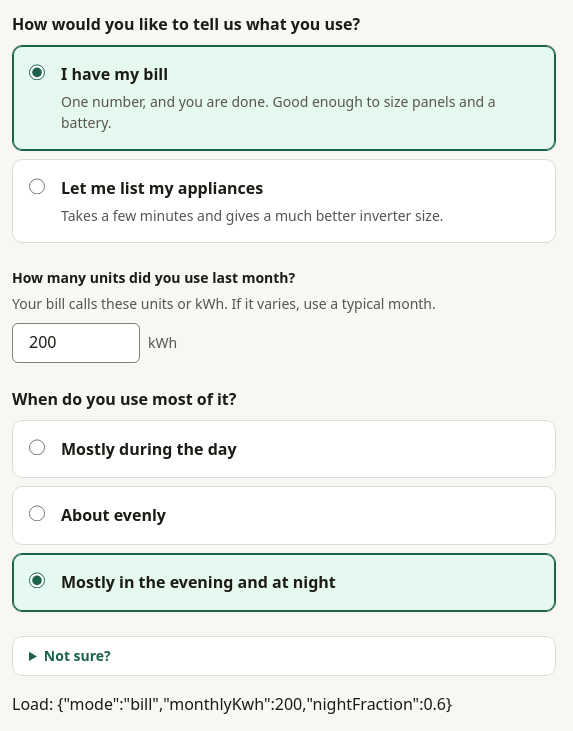
StepUsage › switches to the appliance path and back
Click the radio button labelled "list my appliances" at [37, 186], box top-left (29, 178), bottom-right (45, 194)
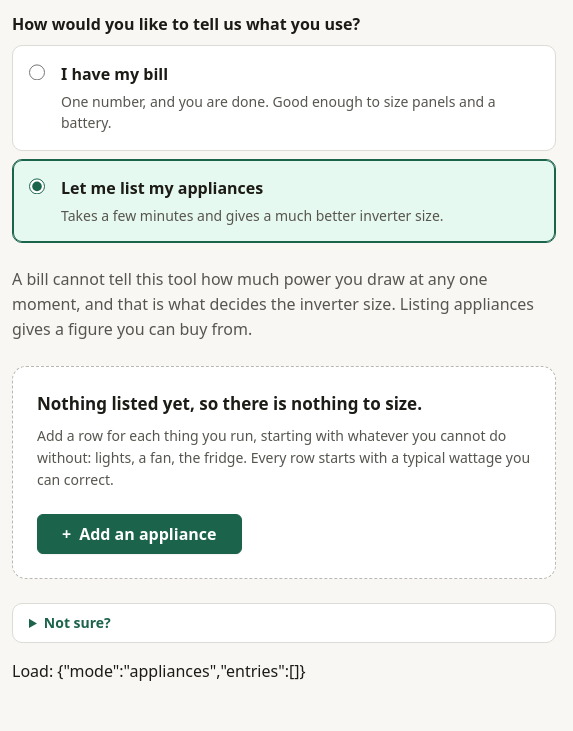
Expected: the button "+ Add an appliance" is shown, top-left (37, 514), bottom-right (242, 554)
Click the radio button labelled "I have my bill" at [37, 72], box top-left (29, 64), bottom-right (45, 80)
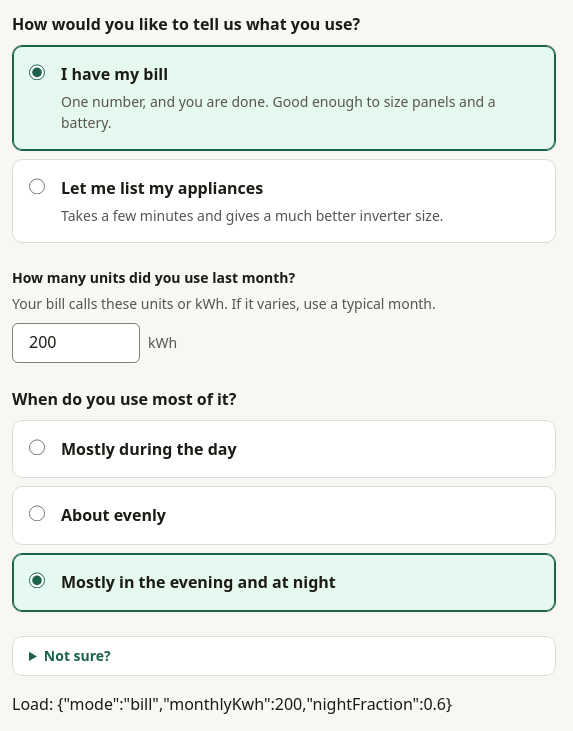
Expected: the number field labelled "How many units did you use last month?" is shown, top-left (12, 323), bottom-right (140, 363)
